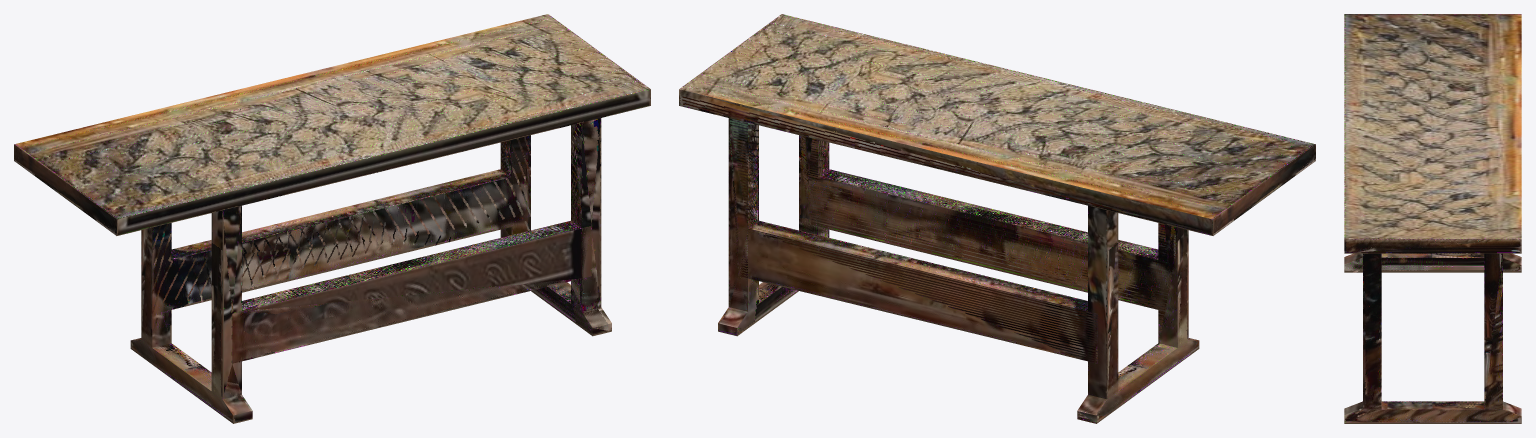
The model's file is bench_11_21__14_43_41_textured.obj.
3 renders of one model, left to right at view 1: azimuth 30°, elevation 25°; view 2: azimuth 150°, elevation 25°; view 3: azimuth 270°, elevation 25°, orthographic. The views are drawn at different scales.
Size of the model in its own units: 0.9385 by 0.391 by 0.3128.
1 material, 1 textured.
